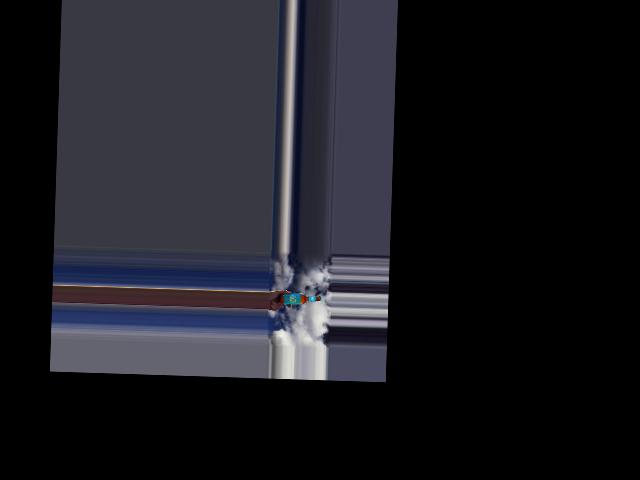beer: (279, 292, 321, 304)
